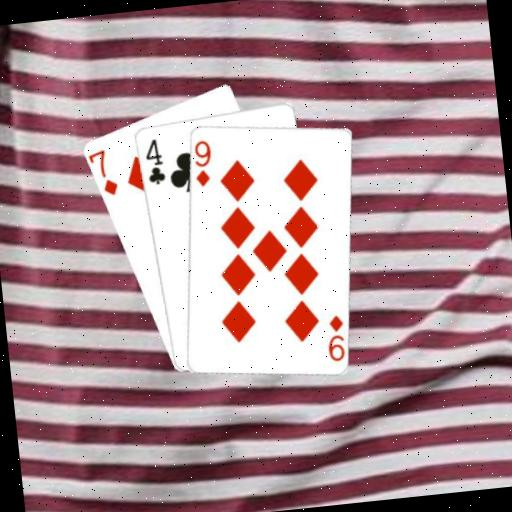4C: (140, 134, 167, 187)
7D: (86, 145, 120, 199)
9D: (321, 311, 349, 364), (189, 136, 216, 189)
